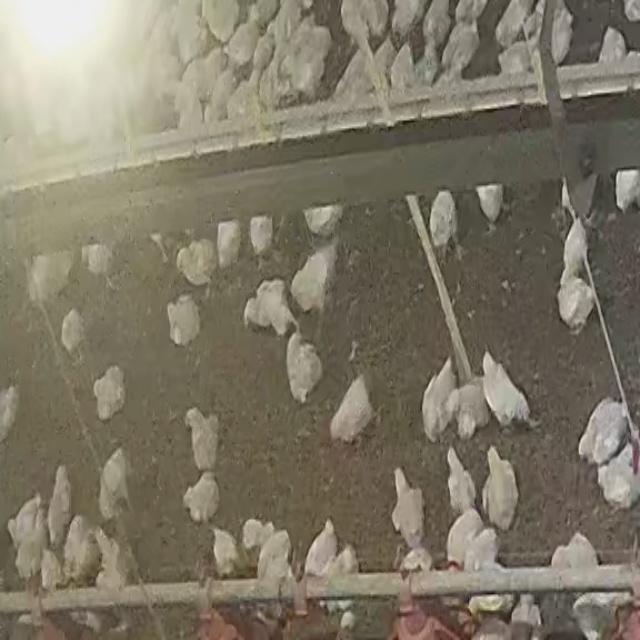chicken: (482, 347, 542, 435), (574, 393, 629, 468), (326, 372, 377, 452), (481, 444, 522, 535), (594, 438, 640, 510), (289, 243, 335, 314), (8, 493, 46, 577), (421, 358, 459, 439), (390, 467, 426, 549), (285, 330, 322, 405), (28, 252, 74, 311), (93, 525, 134, 591), (98, 447, 133, 524), (444, 442, 478, 518), (555, 272, 596, 334), (449, 380, 490, 439), (184, 406, 220, 473), (255, 279, 297, 336), (47, 464, 73, 547), (304, 518, 339, 579), (182, 472, 220, 528), (550, 531, 601, 572), (175, 238, 217, 287), (210, 524, 248, 578), (561, 214, 591, 280), (92, 364, 126, 422), (165, 294, 201, 348), (429, 190, 457, 250), (303, 205, 343, 239), (60, 307, 87, 357), (476, 184, 506, 227), (216, 220, 242, 268), (614, 169, 640, 213), (248, 215, 274, 258)
